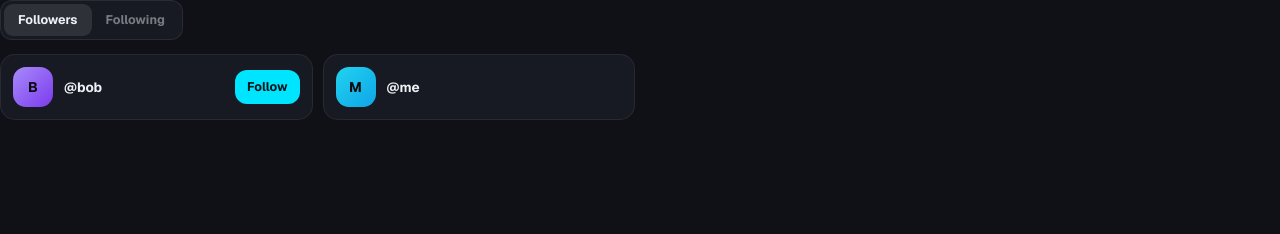
PeopleTab › switches to the Following tab and shows its empty state
Expected: the button "Follow" is shown, x1=235 y1=70 x2=300 y2=104
Click the tab "Following": (135, 20) x1=92 y1=4 x2=179 y2=36
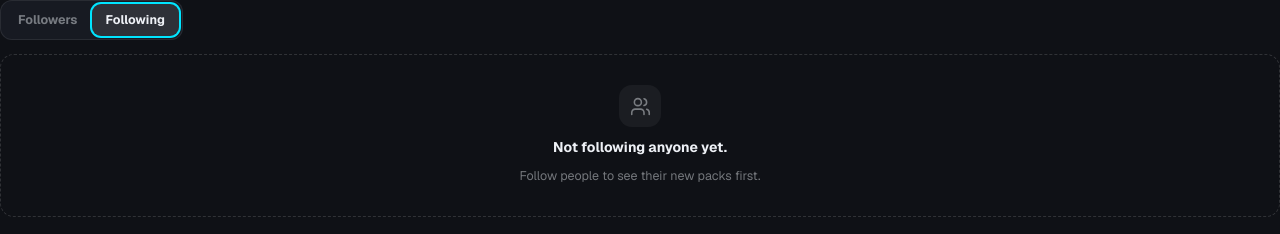
Expected: the text "Not following anyone yet." is shown, x1=553 y1=137 x2=727 y2=157
